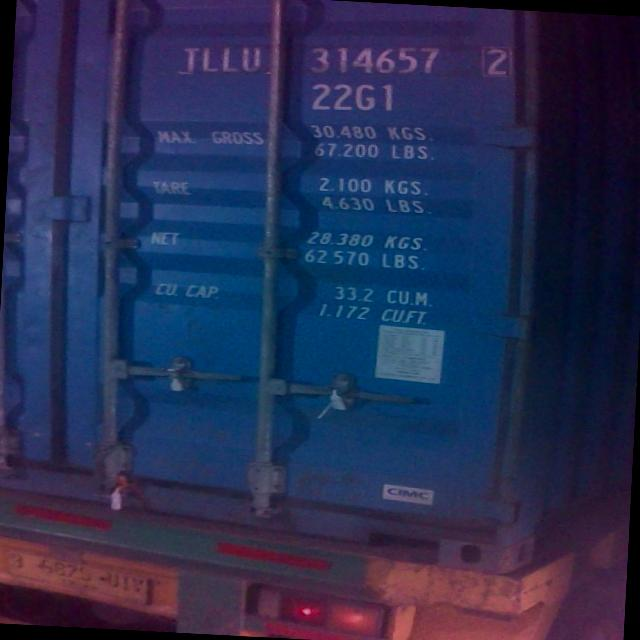seal: (317, 380, 355, 422), (160, 364, 197, 394)
